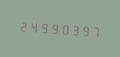four: (27, 17, 36, 35)
nine: (37, 18, 46, 36), (47, 19, 56, 36), (77, 21, 86, 38)
seven: (87, 21, 96, 39)
three: (67, 20, 76, 38)
two: (17, 17, 26, 34)
zero: (57, 19, 66, 37)
